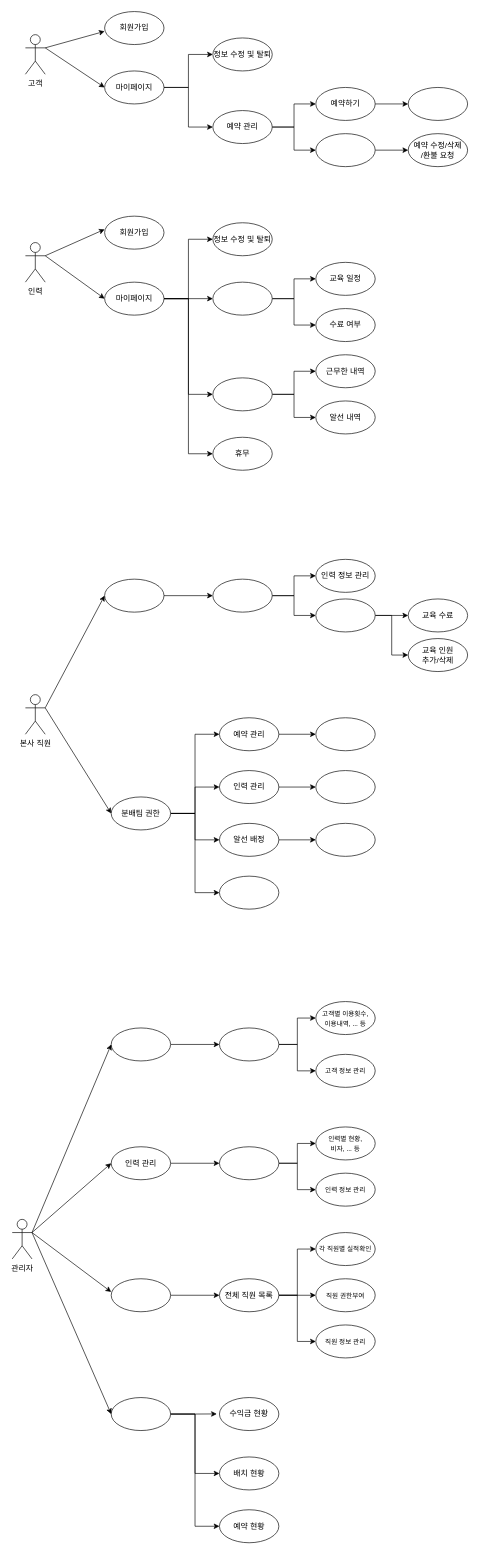
The diagram is 479 pixels wide and 1554 high, and some of its shapes have lost their labels. The centre of each missing label's shape, as x and y in pixels:
"고객 관리" belongs at point 141,1044.
"고객별 예약현황 등" belongs at point 345,734.
"교육" belongs at point 242,298.
"교육 배정" belongs at point 345,615.
"교육팀 권한" belongs at point 134,595.
"배정&미배정 목록, 배정 현황, ... 등" belongs at point 345,839.
"수수료 결제" belongs at point 438,103.
"수익금 관리" belongs at point 141,1414.
"신입 인력 관리" belongs at point 242,595.
"실적(수익금) 관리" belongs at point 249,892.
"알선" belongs at point 242,394.
"예약 목록" belongs at point 345,150.
"인력별 출근현황, 비자, ... 등" belongs at point 345,787.
"전체 고객 목록" belongs at point 249,1044.
"전체 인력 목록" belongs at point 249,1163.
"직원 관리" belongs at point 141,1295.
